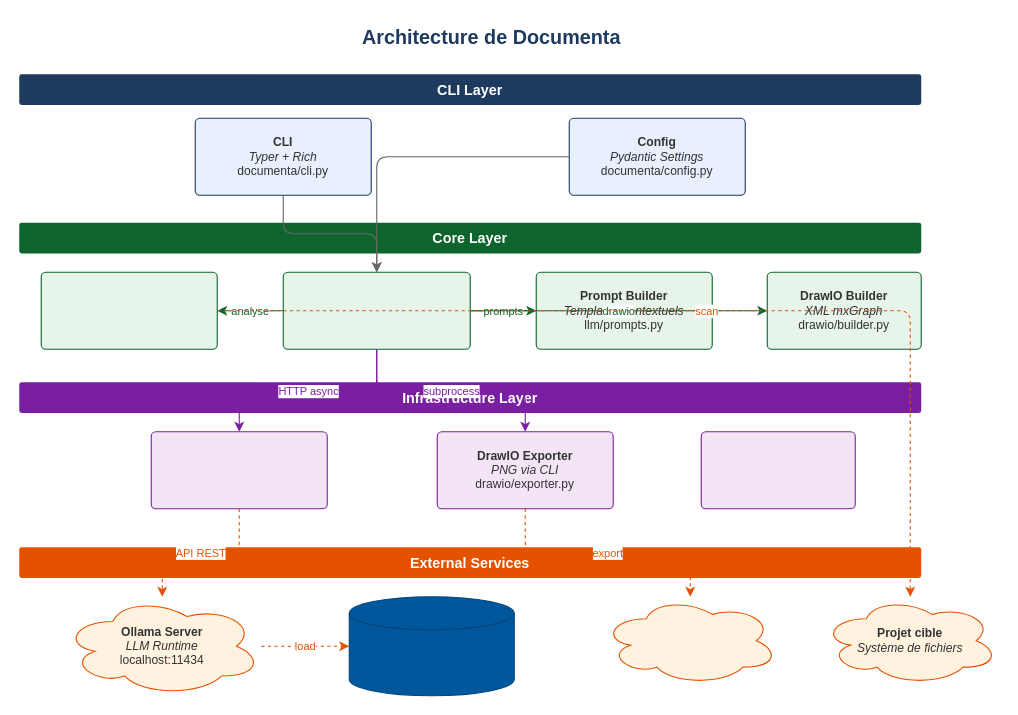
The diagram is 1018 pixels wide and 715 high, and some of its shapes have lost their labels. The shapes that lost their labels are listed below. From the top down, each one's centre as x and y in pixels, then its label:
point (128, 310): Project Analyzer Scan, Detect, Git analyzer/project.py
point (376, 310): Documentation Engine Orchestration async generators/engine.py
point (238, 470): Ollama Client httpx async llm/client.py
point (777, 470): File Utils I/O helpers utils/files.py
point (431, 646): LLM Models DeepSeek Coder Mistral 7B Llama 3.1 8B
point (689, 640): draw.io CLI PNG Export
